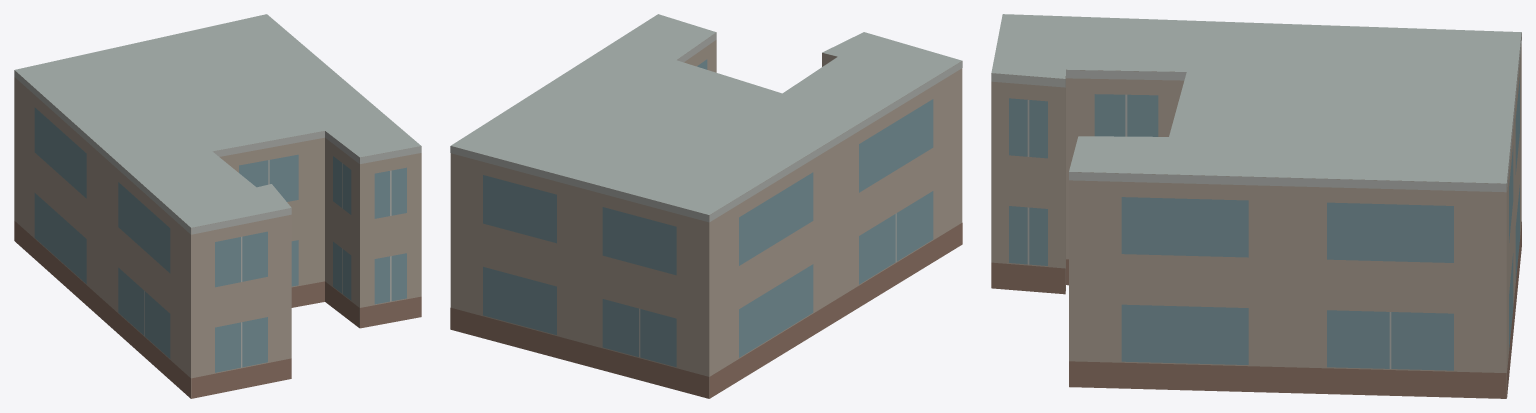
Rendered from survey-upis-32768817.glb.
3 renders of one model, left to right at view 1: azimuth 30°, elevation 25°; view 2: azimuth 150°, elevation 25°; view 3: azimuth 270°, elevation 25°, orthographic. The views are drawn at different scales.
Parts seen in each view (by area): view 1: survey-upis-32768817.tmp; view 2: survey-upis-32768817.tmp; view 3: survey-upis-32768817.tmp.
Part boxes in pixels (<box>): survey-upis-32768817.tmp: <box>14,14,421,398</box>; survey-upis-32768817.tmp: <box>450,14,962,398</box>; survey-upis-32768817.tmp: <box>991,14,1521,398</box>.
Size of the model in its own units: 10.32 by 6.1 by 13.63.
